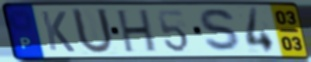4: (245, 6, 277, 55)
5: (155, 9, 191, 53)
H: (116, 8, 158, 55)
K: (38, 9, 77, 54)
S: (198, 7, 246, 54)
U: (70, 6, 117, 56)
